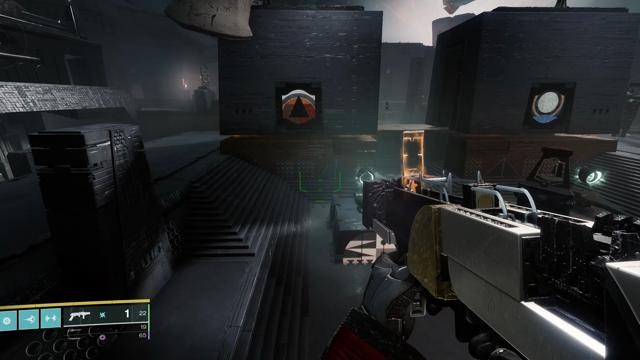pyramid: (282, 89, 316, 124)
traveler: (530, 89, 566, 123)
